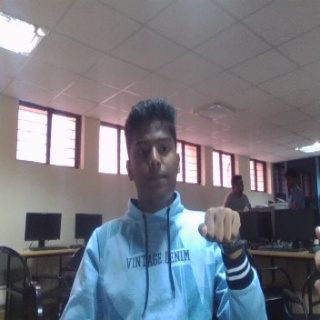Face: (123, 99, 185, 206)
Yes: (196, 206, 243, 252)
